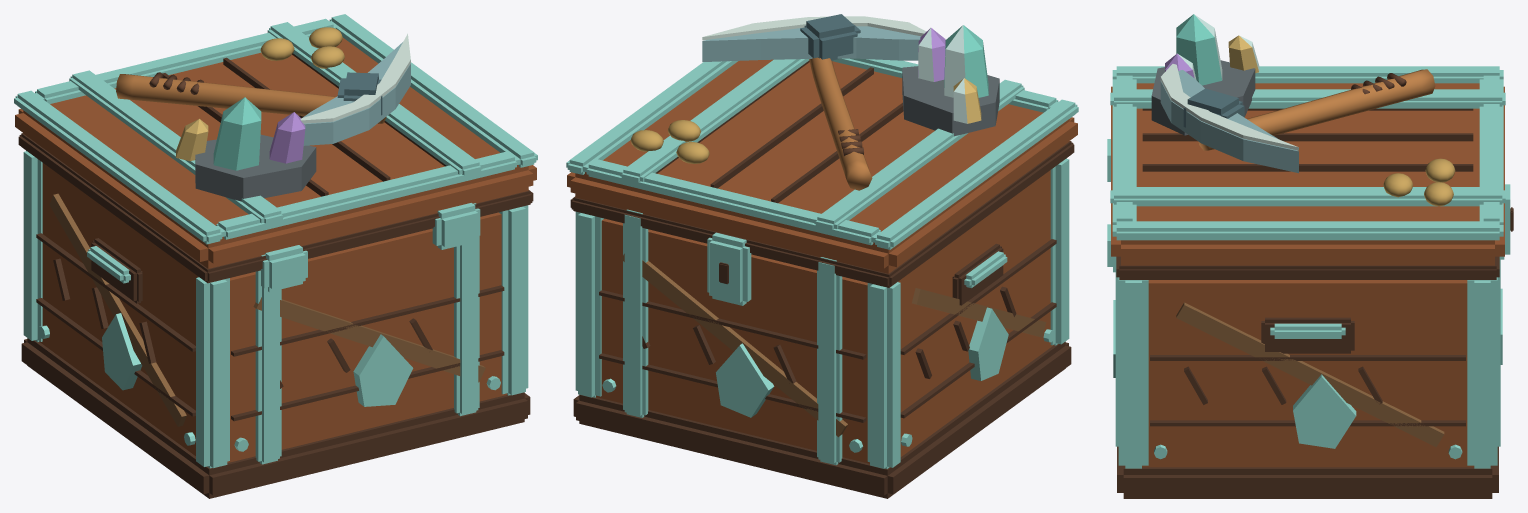
The model's file is crate_minerador.fbx.
The picture shows the model from 3 angles, left to right: view 1: azimuth 30°, elevation 25°; view 2: azimuth 150°, elevation 25°; view 3: azimuth 270°, elevation 25°; orthographic projection. The views are drawn at different scales.
Visible parts, largest first — view 1: crate_minerador_caixa; view 2: crate_minerador_caixa; view 3: crate_minerador_caixa.
Boxes of the visible parts, x1,y1,x2,y2 form: crate_minerador_caixa: (14,14,537,498); crate_minerador_caixa: (566,14,1078,498); crate_minerador_caixa: (1107,14,1513,498).
Size of the model in its own units: 2.68 by 2.67 by 2.7.
Materials: 1 (1 with a texture image).
